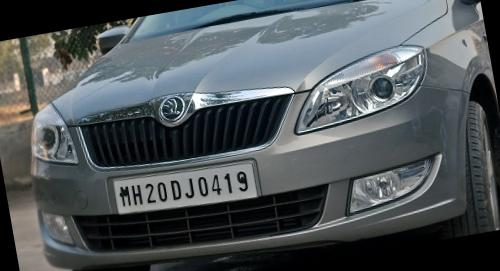plate: (104, 146, 271, 232)
